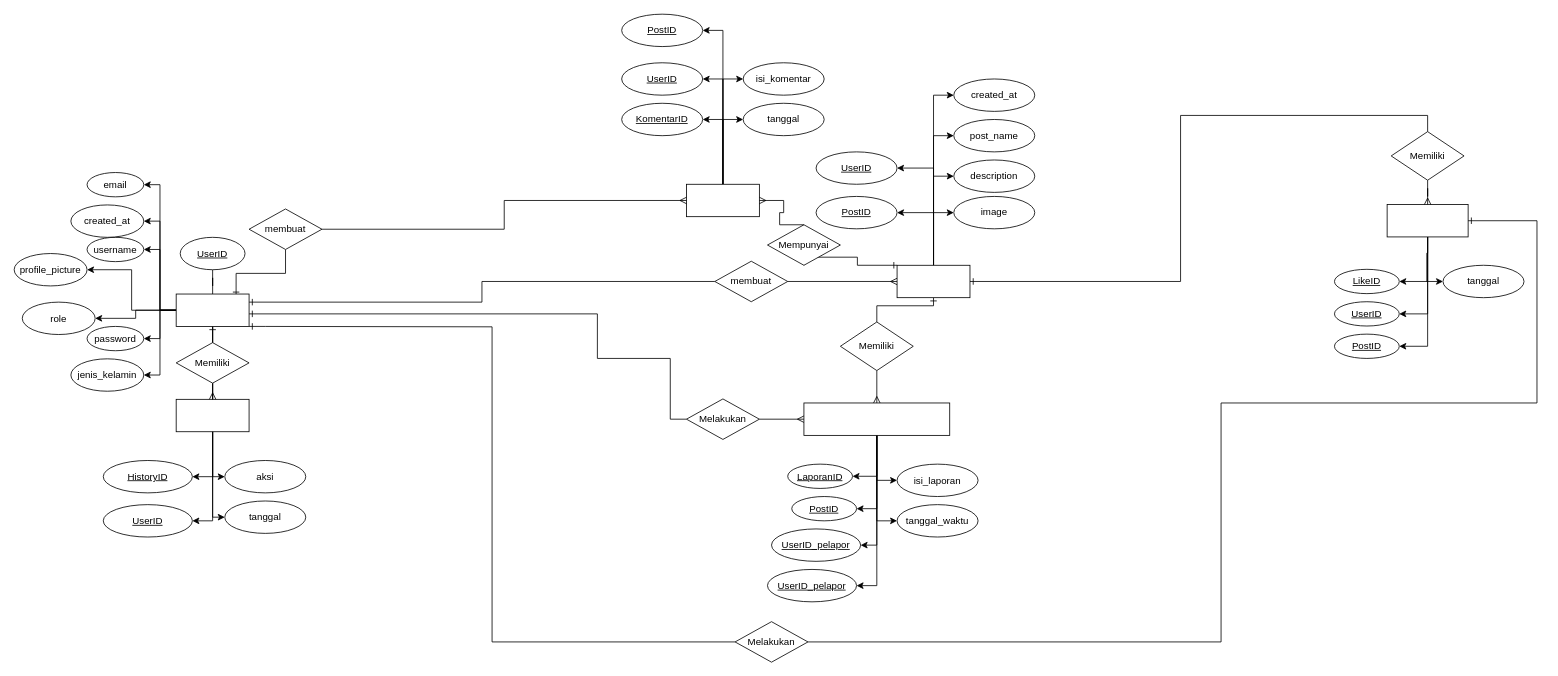
This 1558x676 diagram has some shape labels left out. The box of each missing label's shape, as (x1, y1, x2, y2) in pixels:
history: (175, 399, 249, 432)
komentar: (686, 183, 759, 217)
laporan_pelanggaran_postingan: (803, 402, 950, 435)
like: (1386, 204, 1468, 237)
post: (896, 264, 970, 298)
users: (175, 293, 249, 326)
